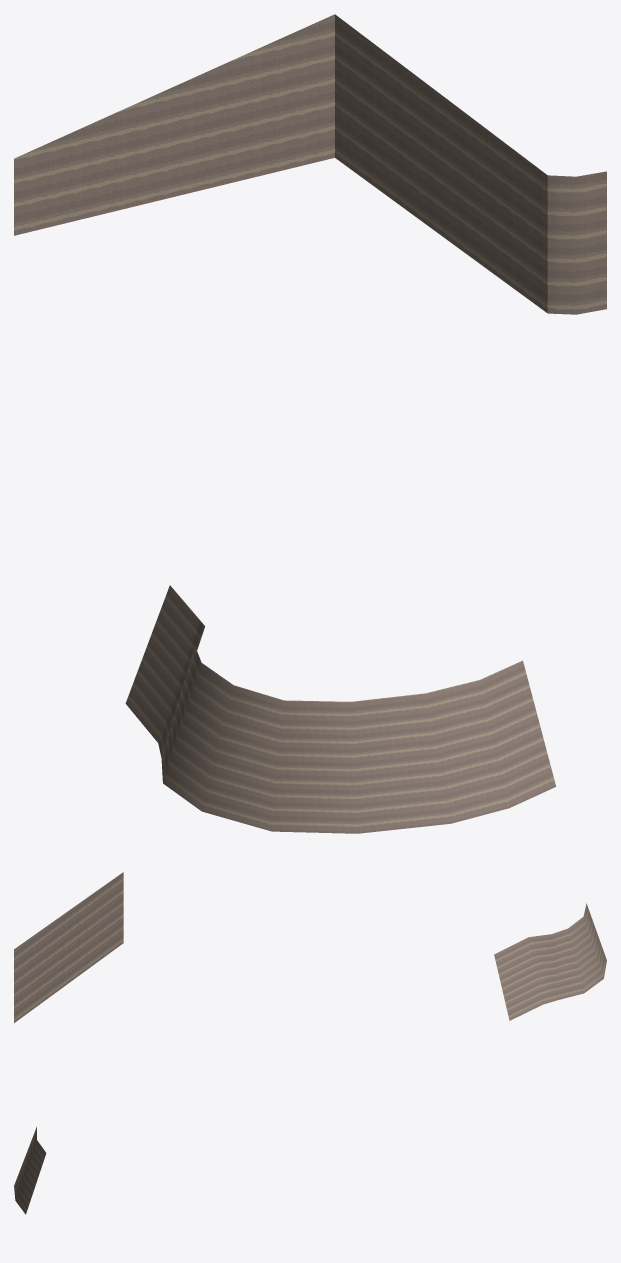
File: kd_stage_1363c5_6_4_bounded.glb
3 views of the same model, one above another, from view 1: azimuth 30°, elevation 25°; view 2: azimuth 150°, elevation 25°; view 3: azimuth 270°, elevation 25° (orthographic). The views are drawn at different scales.
Visible parts, largest first — view 1: kd_stage_1363c5_6_4_bounded; view 2: kd_stage_1363c5_6_4_bounded; view 3: kd_stage_1363c5_6_4_bounded.
Boxes of the visible parts, x1,y1,x2,y2 form: kd_stage_1363c5_6_4_bounded: (14,14,606,833); kd_stage_1363c5_6_4_bounded: (14,872,606,1022); kd_stage_1363c5_6_4_bounded: (14,1127,46,1214).
Bounding box in the file's own units: 67.69 × 25.5 × 98.94.
Materials: 1 (1 with a texture image).
